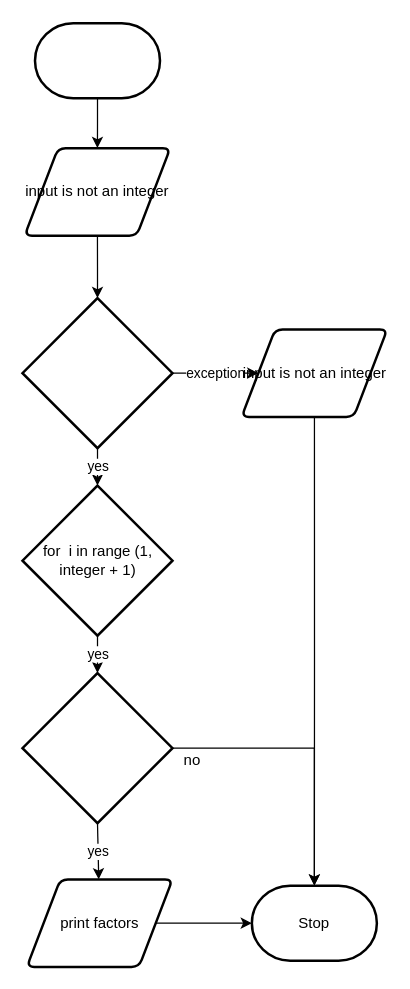
This 410x989 diagram has some shape labels left out. Each missing label, with the centre of its shape:
"if integer % i == 0" goes at pixel 97 747.
"Start" goes at pixel 97 60.
"Try" goes at pixel 97 372.
